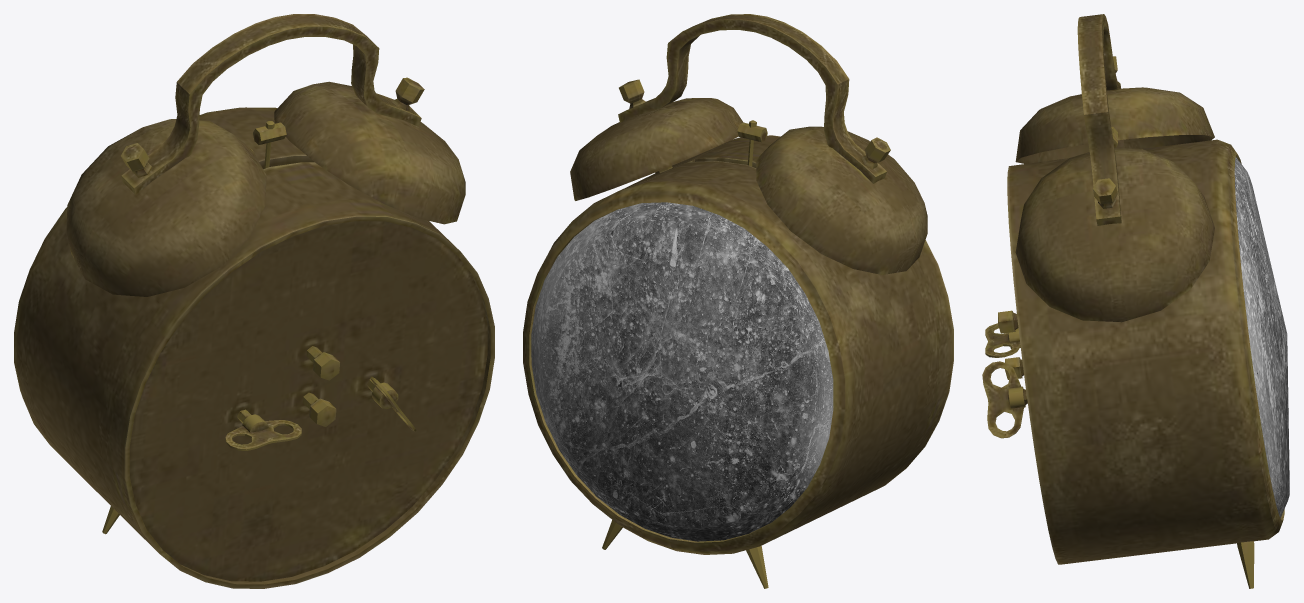
Rendered from clock-mantel.glb.
The picture shows the model from 3 angles, left to right: view 1: azimuth 30°, elevation 25°; view 2: azimuth 150°, elevation 25°; view 3: azimuth 270°, elevation 25°; orthographic projection. The views are drawn at different scales.
Visible parts, largest first — view 1: clock-mantel; view 2: clock-mantel; view 3: clock-mantel.
Boxes of the visible parts, <box> form: clock-mantel: <box>14,14,494,588</box>; clock-mantel: <box>523,14,953,588</box>; clock-mantel: <box>982,14,1289,588</box>.
Bounding box in the file's own units: 0.182 × 0.2582 × 0.138.
Materials: 3 (3 with a texture image).
